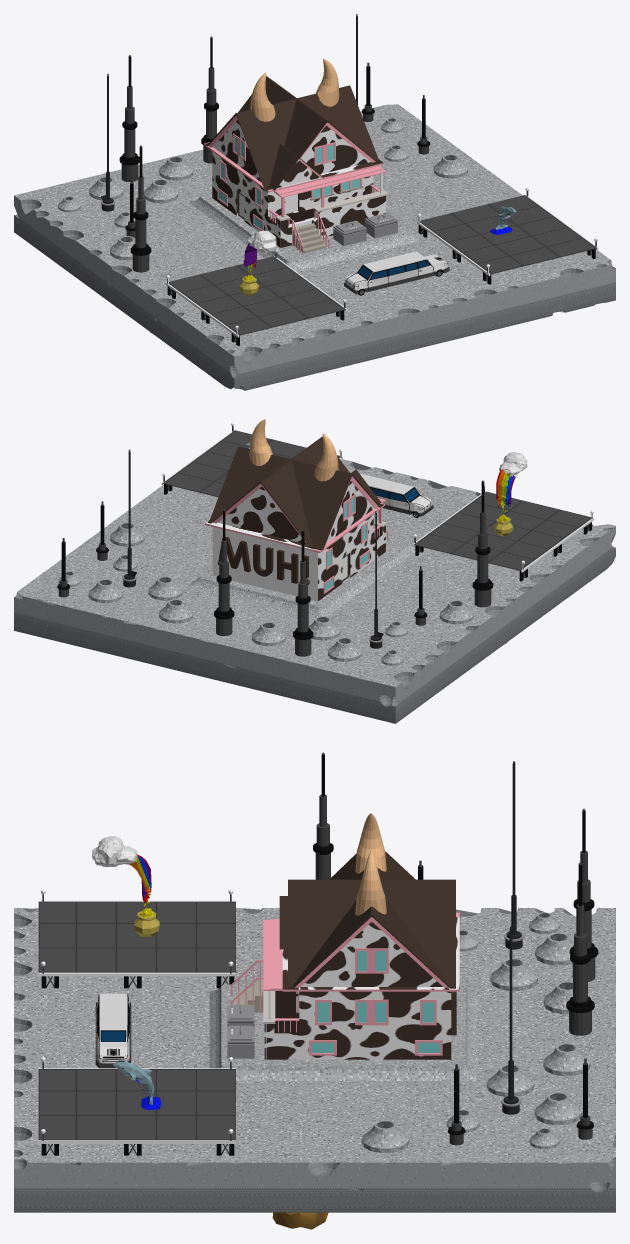
3 views of the same model, one above another, from view 1: azimuth 30°, elevation 25°; view 2: azimuth 150°, elevation 25°; view 3: azimuth 270°, elevation 25° (orthographic). The views are drawn at different scales.
Visible parts, largest first — view 1: Cube.027, Cube.1242, Cube.026, Cube.025, Cube.028, VEHICLES_LIMOUSINE, Cylinder.021, Cylinder.020, OBJRANDOM_RAINBOW, Cylinder.017, Cube.029, Cube.030 (+4 smaller); view 2: Cube.027, Cube.1242, Cube.025, Cube.028, Cube.026, VEHICLES_LIMOUSINE, OBJRANDOM_RAINBOW, Cylinder.021, Cylinder.020, Cylinder.017, Cylinder.030, Cylinder.028 (+8 smaller); view 3: Cube.027, Cube.1242, Cube.025, Cube.026, Cube.028, VEHICLES_LIMOUSINE, Cylinder.017, OBJRANDOM_RAINBOW, Cylinder.020, Cylinder.021, Cylinder.031, Cylinder.033 (+11 smaller).
Part boxes in pixels (x1=…): Cube.027: x1=14, y1=104, x2=615, y2=390; Cube.1242: x1=204, y1=58, x2=388, y2=254; Cube.026: x1=417, y1=187, x2=598, y2=284; Cube.025: x1=165, y1=249, x2=347, y2=345; Cube.028: x1=190, y1=193, x2=420, y2=271; VEHICLES_LIMOUSINE: x1=344, y1=251, x2=449, y2=295; Cylinder.021: x1=130, y1=145, x2=151, y2=272; Cylinder.020: x1=119, y1=55, x2=139, y2=181; OBJRANDOM_RAINBOW: x1=240, y1=230, x2=277, y2=296; Cylinder.017: x1=201, y1=36, x2=218, y2=163; Cube.029: x1=333, y1=220, x2=366, y2=245; Cube.030: x1=364, y1=213, x2=397, y2=238; Cube.027: x1=14, y1=459, x2=615, y2=723; Cube.1242: x1=205, y1=419, x2=388, y2=601; Cube.025: x1=413, y1=484, x2=594, y2=581; Cube.028: x1=188, y1=536, x2=415, y2=617; Cube.026: x1=161, y1=422, x2=342, y2=497; VEHICLES_LIMOUSINE: x1=360, y1=474, x2=433, y2=517; OBJRANDOM_RAINBOW: x1=494, y1=452, x2=527, y2=536; Cylinder.021: x1=472, y1=480, x2=493, y2=607; Cylinder.020: x1=293, y1=529, x2=313, y2=656; Cylinder.017: x1=214, y1=509, x2=234, y2=636; Cylinder.030: x1=148, y1=576, x2=182, y2=600; Cylinder.028: x1=328, y1=637, x2=362, y2=661; Cube.027: x1=14, y1=908, x2=615, y2=1212; Cube.1242: x1=231, y1=813, x2=459, y2=1059; Cube.025: x1=38, y1=889, x2=235, y2=988; Cube.026: x1=38, y1=1057, x2=235, y2=1155; Cube.028: x1=209, y1=984, x2=477, y2=1080; VEHICLES_LIMOUSINE: x1=95, y1=993, x2=131, y2=1068; Cylinder.017: x1=566, y1=862, x2=594, y2=1035; OBJRANDOM_RAINBOW: x1=92, y1=836, x2=159, y2=936; Cylinder.020: x1=569, y1=808, x2=598, y2=981; Cylinder.021: x1=313, y1=752, x2=333, y2=879; Cylinder.031: x1=534, y1=1092, x2=582, y2=1124; Cylinder.033: x1=361, y1=1120, x2=409, y2=1152.
Bounding box in the file's own units: 4000 × 2050 × 4000.
Materials: 43 (4 with a texture image).
